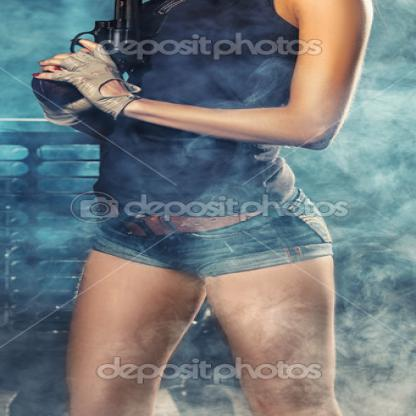gun: (30, 0, 160, 132)
